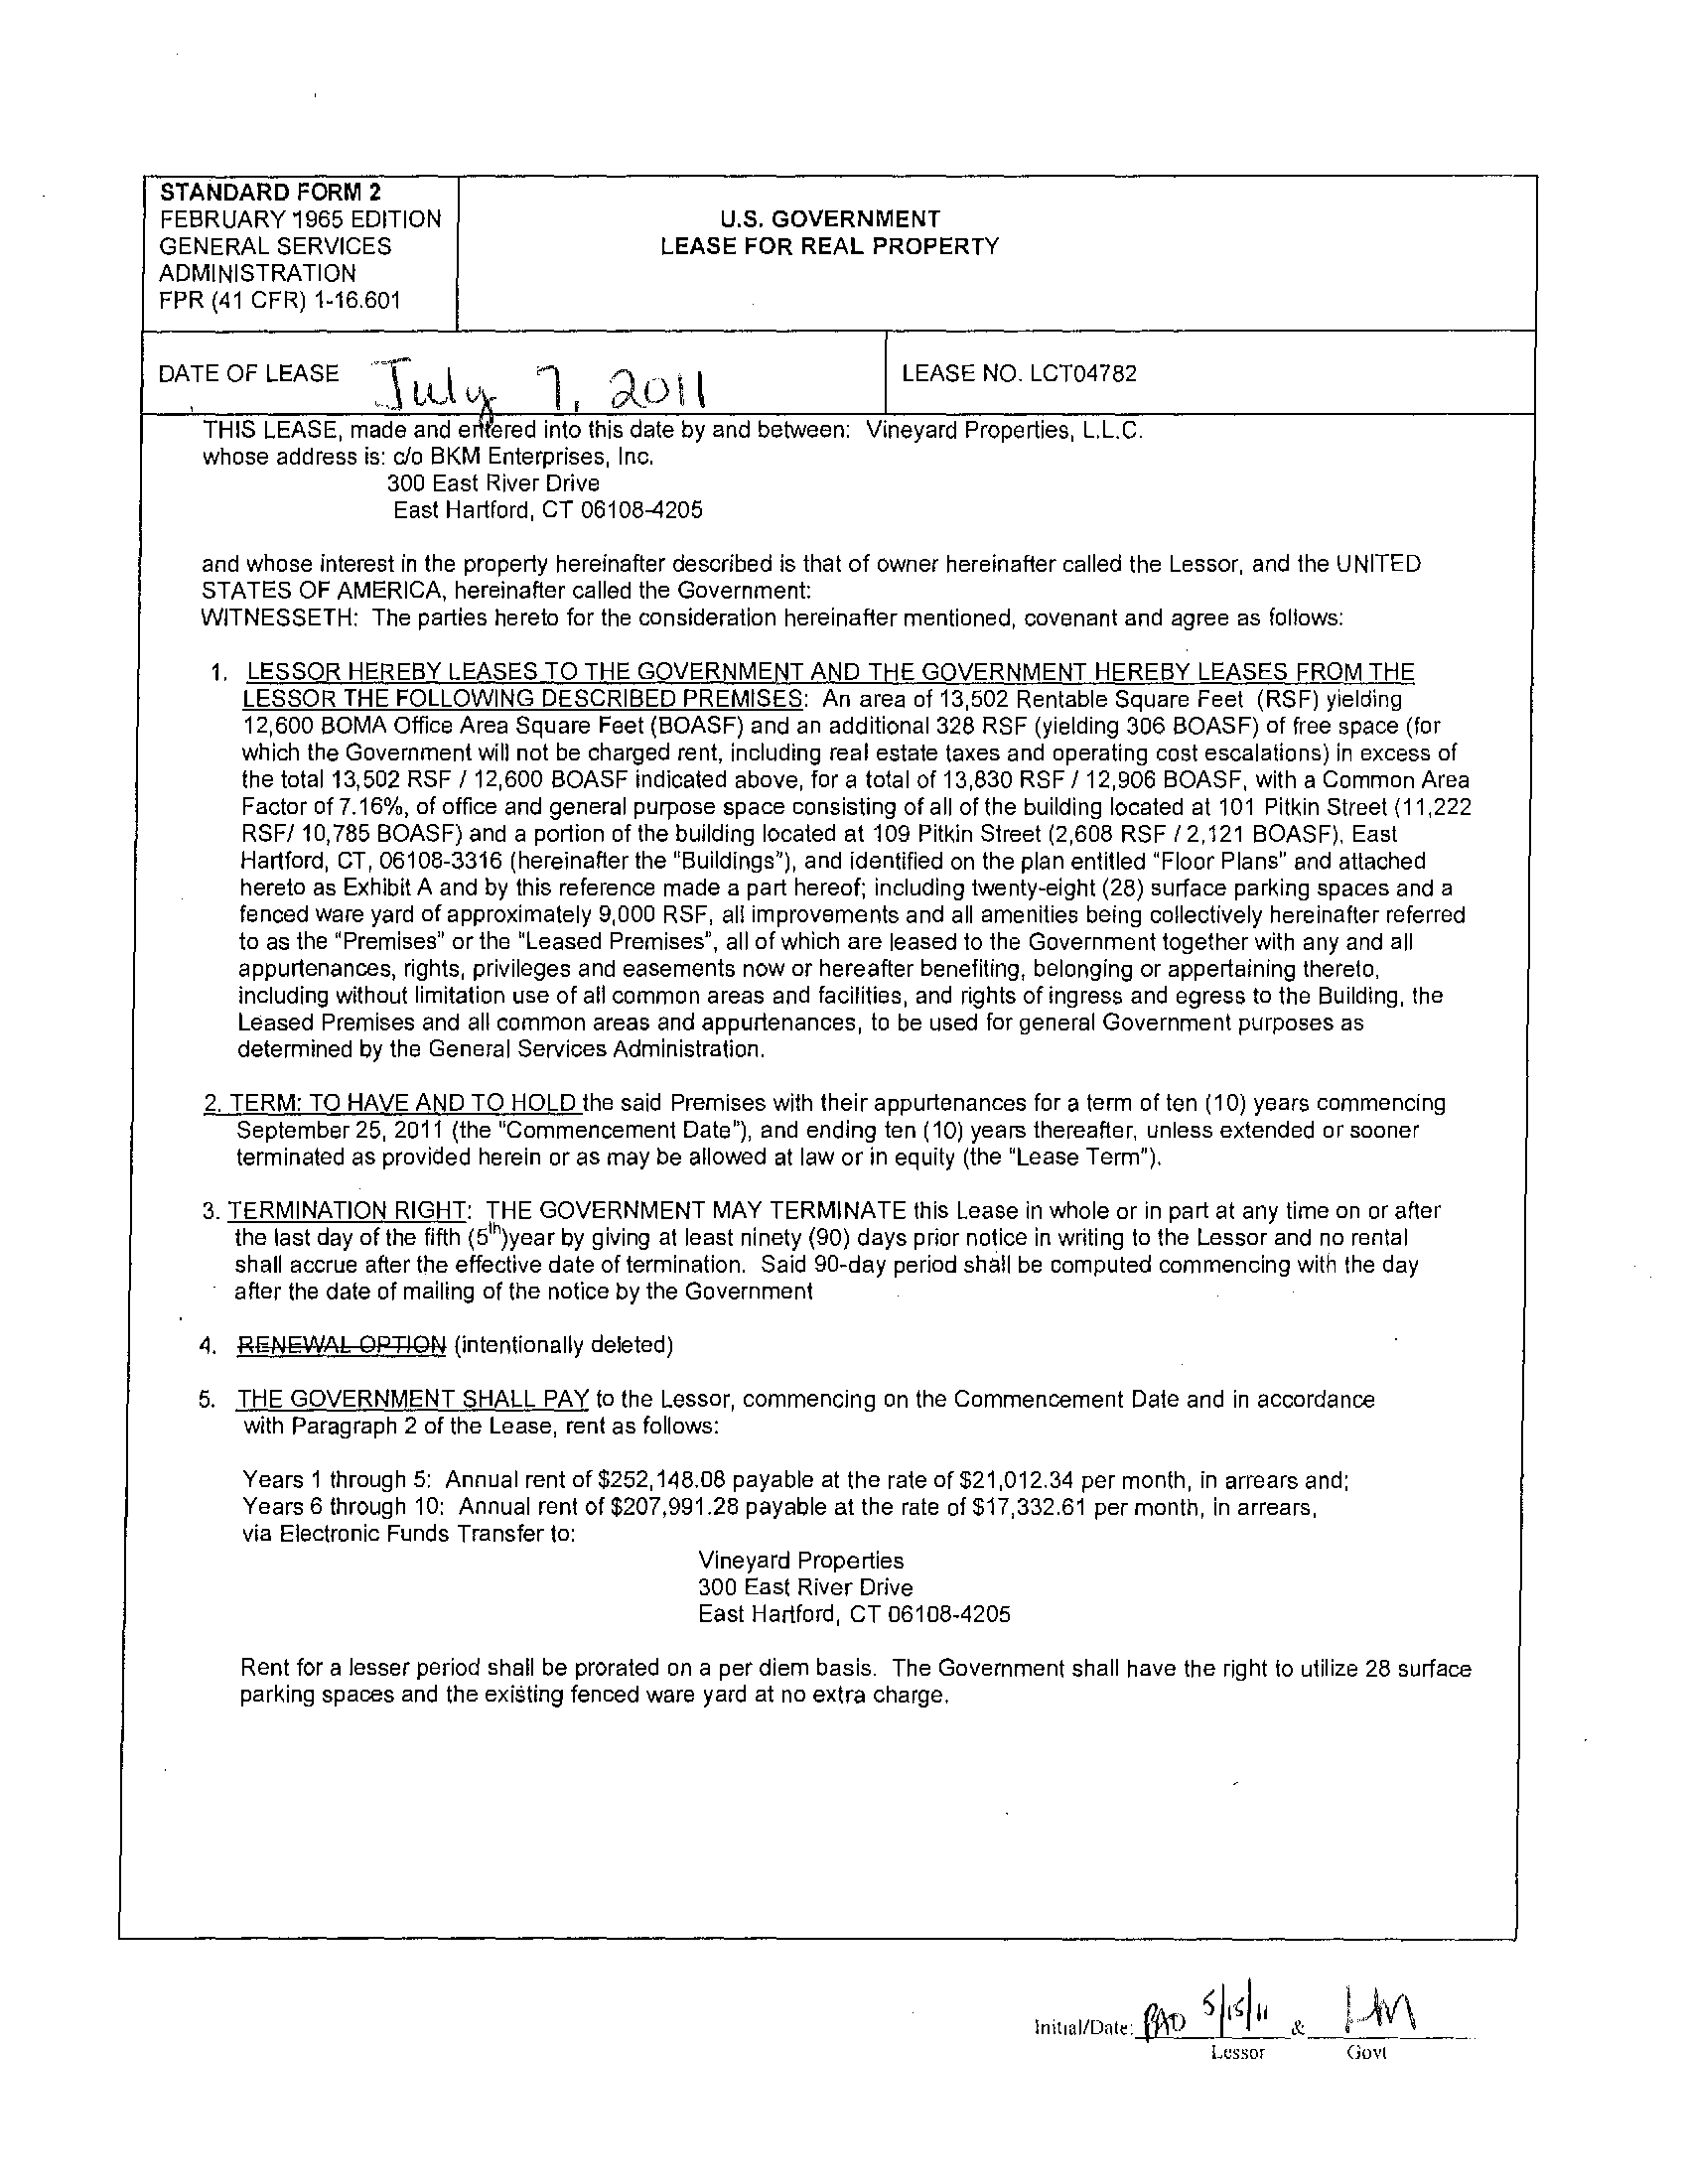handwritten: (353, 344, 739, 424), (1128, 1962, 1280, 2053), (1333, 1962, 1438, 2047)
